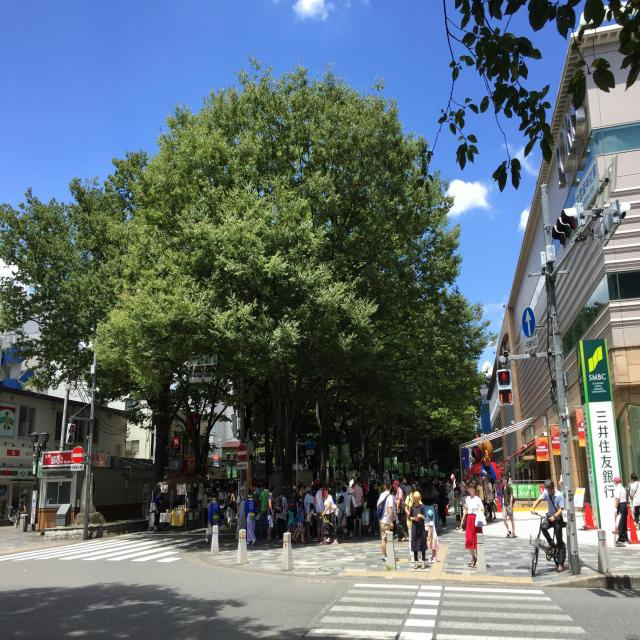Good: (318, 563, 346, 574)
